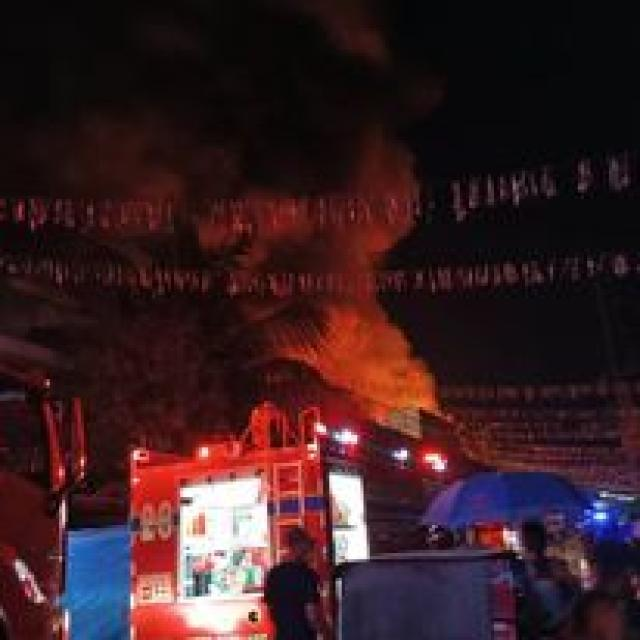Smoke: (4, 6, 430, 180), (329, 302, 436, 398)
